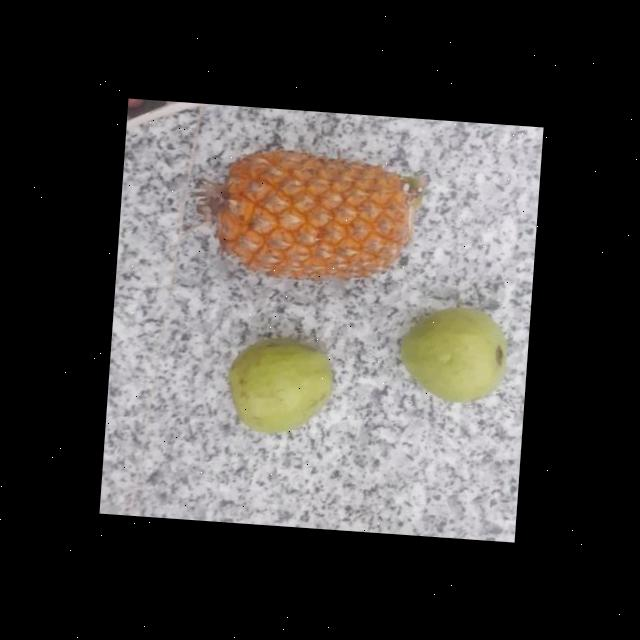guava: (225, 327, 334, 438), (400, 298, 508, 406)
pineapple: (203, 142, 425, 284)
